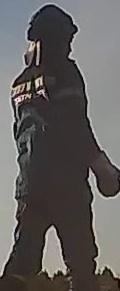gloves: (89, 150, 120, 198)
vest: (9, 62, 92, 204)
